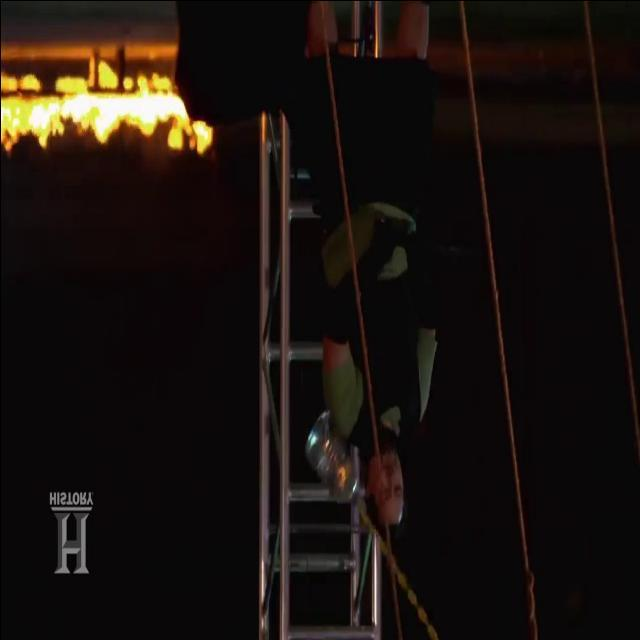Fire: (1, 78, 215, 163)
